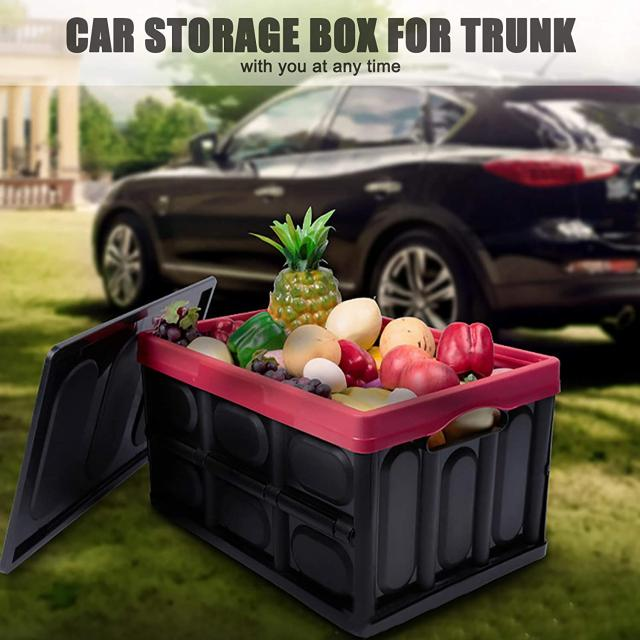basket: (126, 331, 563, 640)
